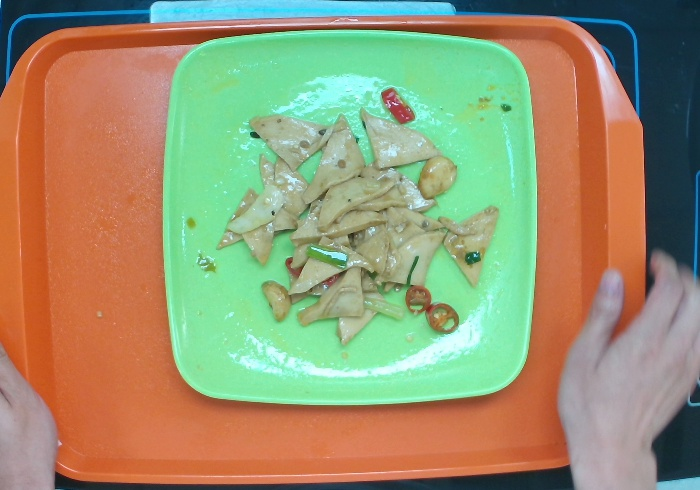ZNLD-Lv_Fang_Pan: (160, 28, 538, 410)
